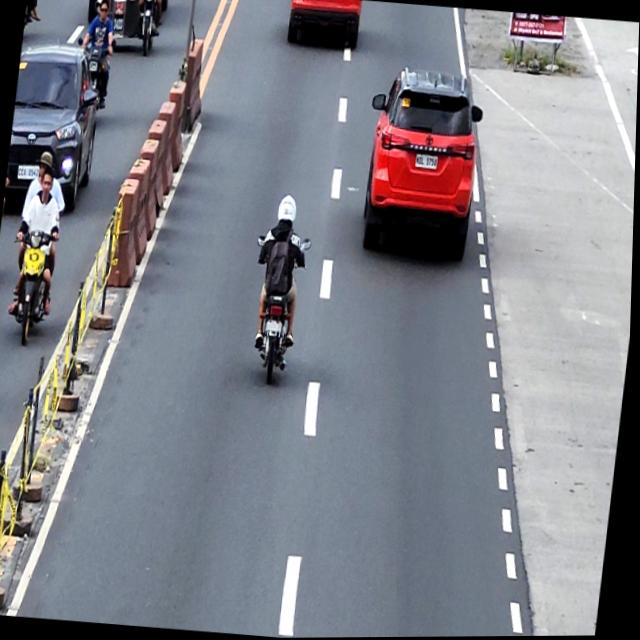Car: (355, 62, 489, 262), (4, 36, 106, 212), (286, 0, 362, 49)
License-Plate: (414, 151, 439, 171), (18, 163, 41, 181), (266, 320, 285, 334)
Motorcycle: (242, 231, 313, 388), (4, 225, 61, 347), (69, 35, 115, 110)
Tricycle: (80, 0, 164, 58)
